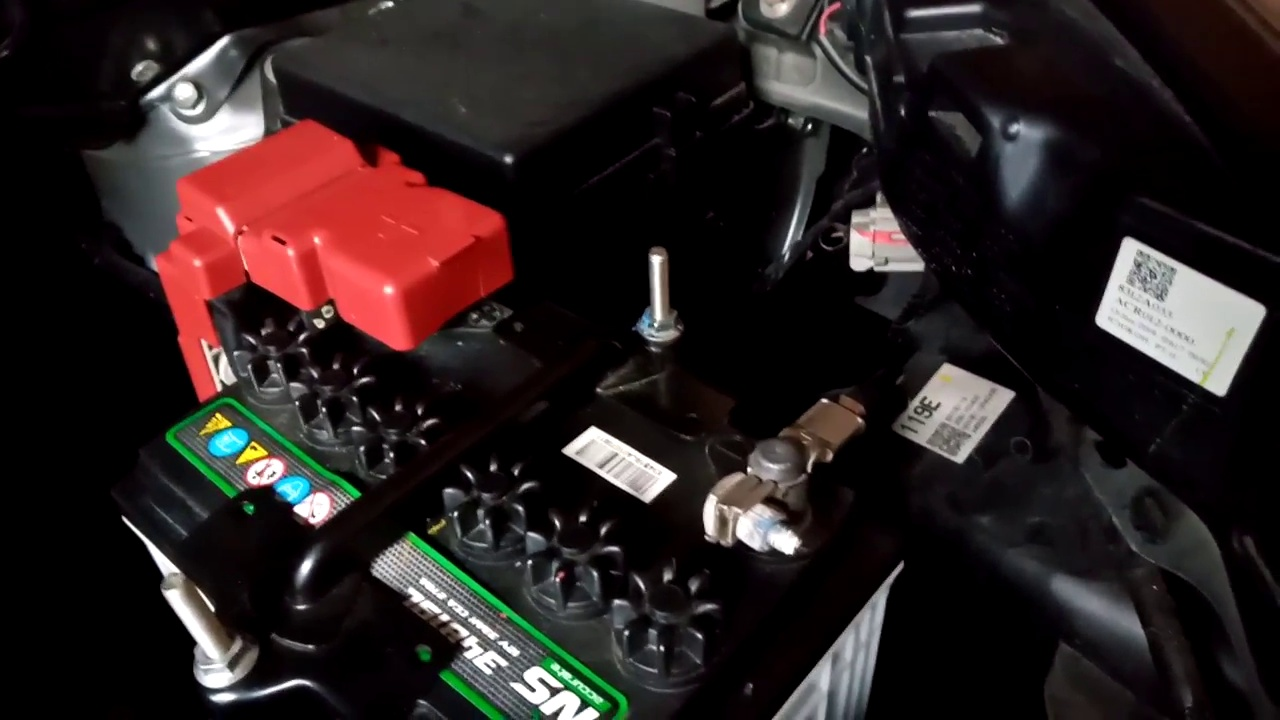battery: (145, 170, 881, 716)
neg_connected: (692, 361, 850, 570)
pos_connected: (168, 127, 512, 379)
